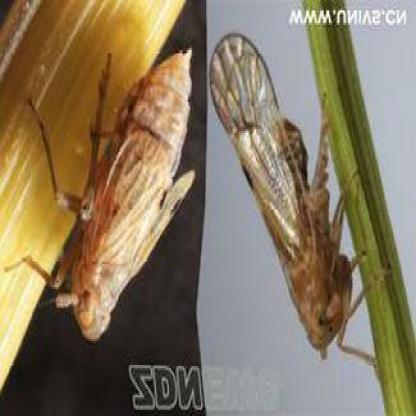brown-planthopper: (34, 44, 202, 344), (211, 28, 355, 361)
